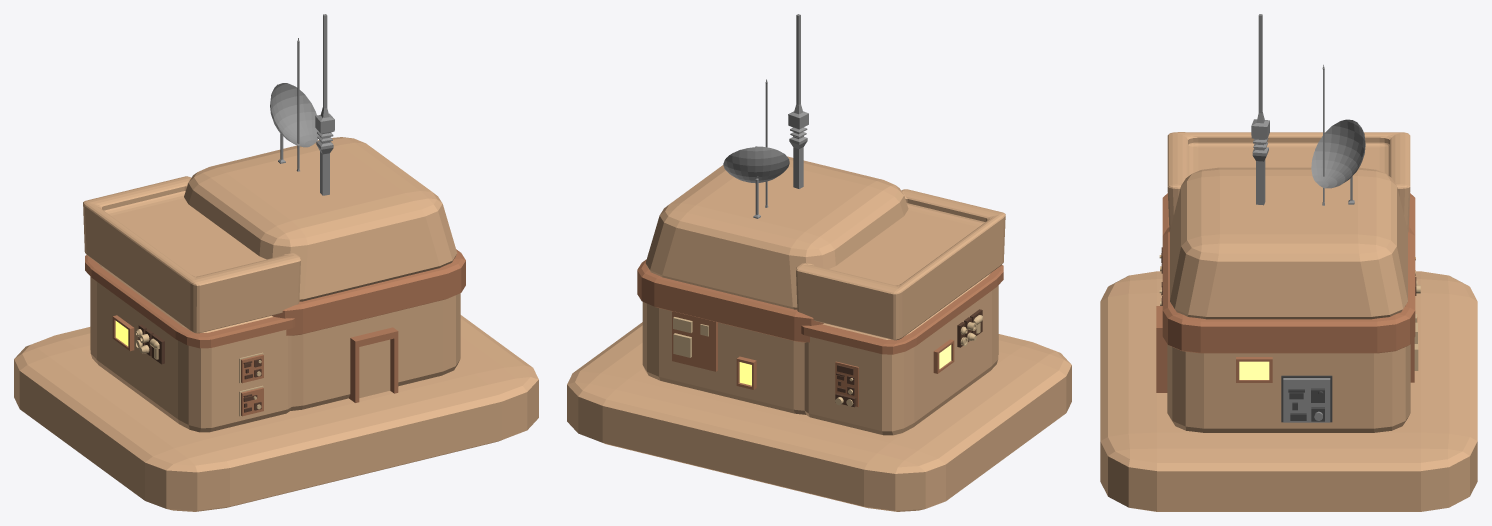
File: nomad_building_31.fbx
3 views of the same model, side by side, from view 1: azimuth 30°, elevation 25°; view 2: azimuth 150°, elevation 25°; view 3: azimuth 270°, elevation 25° (orthographic). The views are drawn at different scales.
Visible parts, largest first — view 1: B31_M_Foundation_rectangular, B31_M_R00_square_roof_defualt, B31_M_R01_roof_simple, B31_M_Blk01_rectangular_unit, B31_M_Blk00_base, B31_M_B00_Band_square_diameter_thich, B31_M_B01_Band_square_diameter_default, B31_M_Dish0_AntennaDish_Reflector, B31_M_Door_Door_Leaf, B31_M_Door_Door_Frame, B31_M_Mast1_AntennaMast_Bulky; view 2: B31_M_Foundation_rectangular, B31_M_R00_square_roof_defualt, B31_M_R01_roof_simple, B31_M_Blk01_rectangular_unit, B31_M_Blk00_base, B31_M_B00_Band_square_diameter_thich, B31_M_B01_Band_square_diameter_default, B31_M_Dish0_AntennaDish_Reflector, B31_M_Panel1_PanelBox_Body, B31_M_Mast1_AntennaMast_Bulky; view 3: B31_M_Foundation_rectangular, B31_M_R00_square_roof_defualt, B31_M_Blk00_base, B31_M_B00_Band_square_diameter_thich, B31_M_R01_roof_simple, B31_M_Dish0_AntennaDish_Reflector, B31_M_Mast1_AntennaMast_Bulky, B31_M_Panel0_MeterBox_Face001, B31_M_Door_Door_Frame, B31_M_S0_Win101_WindowRectLarge_Glass, B31_M_B01_Band_square_diameter_default, B31_M_S0_Win101_WindowRectLarge_Frame.
Boxes of the visible parts, bbox=[...] form: B31_M_Foundation_rectangular: bbox=[14, 315, 538, 511]; B31_M_R00_square_roof_defualt: bbox=[184, 137, 457, 301]; B31_M_R01_roof_simple: bbox=[83, 176, 300, 333]; B31_M_Blk01_rectangular_unit: bbox=[90, 263, 291, 432]; B31_M_Blk00_base: bbox=[290, 293, 460, 410]; B31_M_B00_Band_square_diameter_thich: bbox=[272, 249, 465, 335]; B31_M_B01_Band_square_diameter_default: bbox=[85, 255, 295, 348]; B31_M_Dish0_AntennaDish_Reflector: bbox=[270, 83, 318, 147]; B31_M_Door_Door_Leaf: bbox=[359, 339, 390, 397]; B31_M_Door_Door_Frame: bbox=[349, 327, 398, 402]; B31_M_Mast1_AntennaMast_Bulky: bbox=[315, 14, 334, 195]; B31_M_Foundation_rectangular: bbox=[567, 322, 1071, 511]; B31_M_R00_square_roof_defualt: bbox=[645, 156, 908, 309]; B31_M_R01_roof_simple: bbox=[796, 189, 1005, 340]; B31_M_Blk01_rectangular_unit: bbox=[804, 273, 998, 435]; B31_M_Blk00_base: bbox=[642, 302, 805, 414]; B31_M_B00_Band_square_diameter_thich: bbox=[637, 259, 823, 342]; B31_M_B01_Band_square_diameter_default: bbox=[801, 265, 1003, 354]; B31_M_Dish0_AntennaDish_Reflector: bbox=[723, 146, 789, 183]; B31_M_Panel1_PanelBox_Body: bbox=[672, 311, 717, 371]; B31_M_Mast1_AntennaMast_Bulky: bbox=[788, 14, 808, 188]; B31_M_Foundation_rectangular: bbox=[1100, 271, 1477, 511]; B31_M_R00_square_roof_defualt: bbox=[1170, 167, 1407, 319]; B31_M_Blk00_base: bbox=[1167, 344, 1410, 432]; B31_M_B00_Band_square_diameter_thich: bbox=[1162, 227, 1415, 353]; B31_M_R01_roof_simple: bbox=[1167, 132, 1410, 231]; B31_M_Dish0_AntennaDish_Reflector: bbox=[1311, 119, 1365, 188]; B31_M_Mast1_AntennaMast_Bulky: bbox=[1251, 14, 1269, 205]; B31_M_Panel0_MeterBox_Face001: bbox=[1283, 378, 1330, 422]; B31_M_Door_Door_Frame: bbox=[1156, 306, 1167, 392]; B31_M_S0_Win101_WindowRectLarge_Glass: bbox=[1239, 361, 1269, 379]; B31_M_B01_Band_square_diameter_default: bbox=[1162, 193, 1415, 235]; B31_M_S0_Win101_WindowRectLarge_Frame: bbox=[1236, 357, 1272, 382].
Size of the model in its own units: 335 by 331 by 267.
